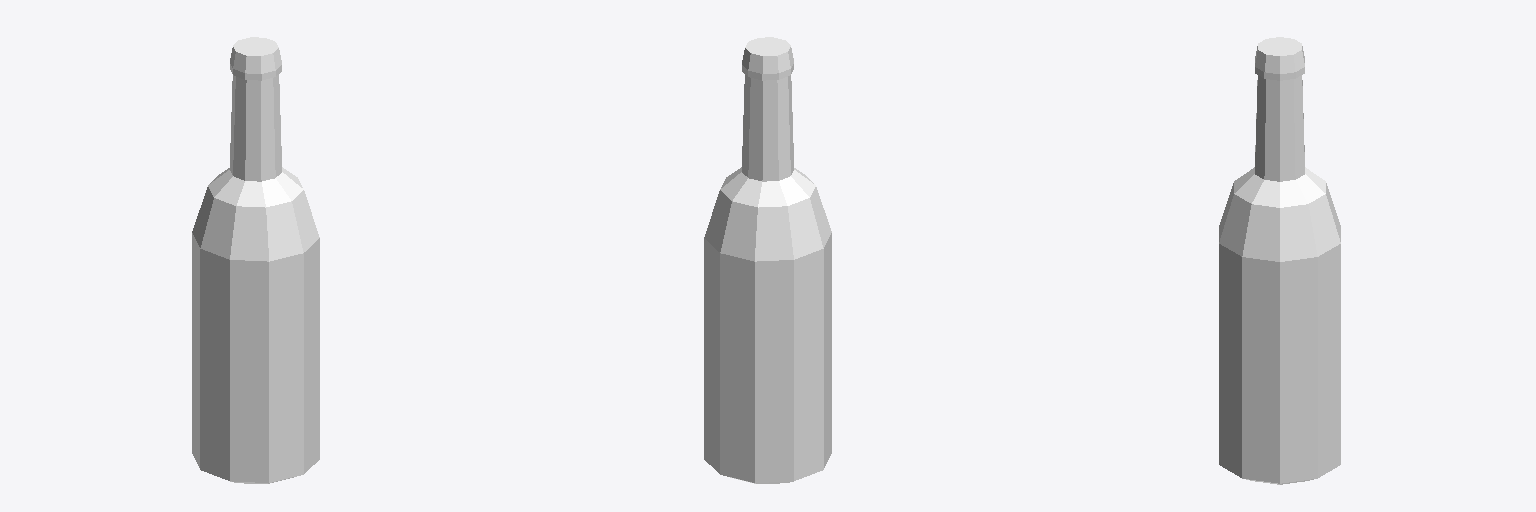
The model's file is WineBottle.obj.
The picture shows the model from 3 angles: view 1: azimuth 30°, elevation 25°; view 2: azimuth 150°, elevation 25°; view 3: azimuth 270°, elevation 25°; orthographic projection.
Parts seen in each view (by area): view 1: Generic; view 2: Generic; view 3: Generic.
Part boxes in pixels (bbox=[...]): Generic: bbox=[192, 37, 319, 483]; Generic: bbox=[704, 37, 831, 483]; Generic: bbox=[1219, 37, 1340, 484].
Size of the model in its own units: 0.0827 by 0.2975 by 0.0787.